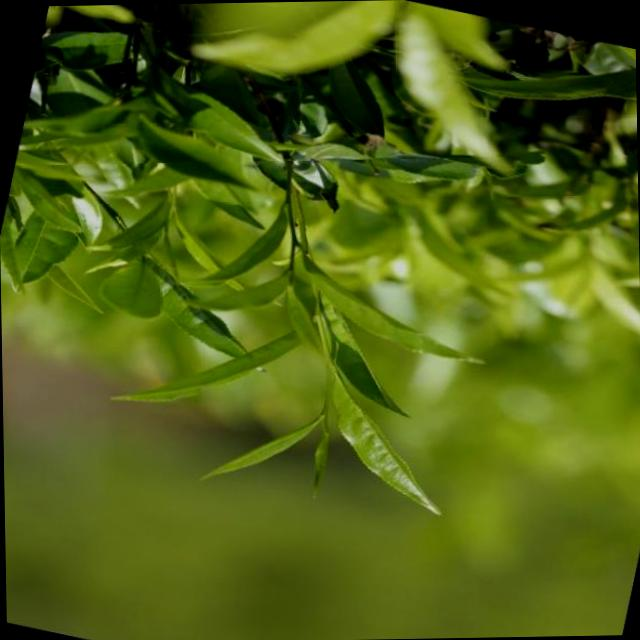Stem: (324, 357, 331, 367)
